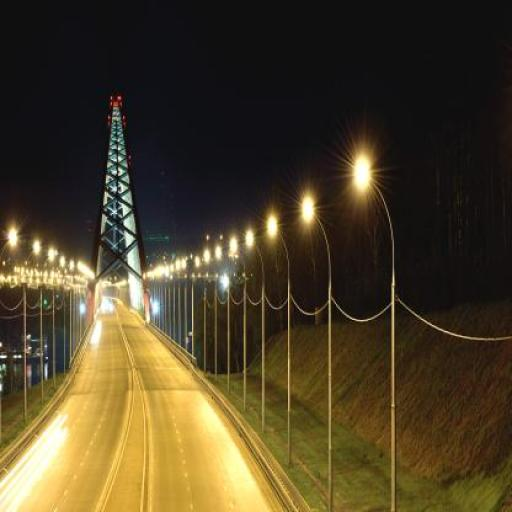street light: (357, 161, 397, 512), (302, 199, 334, 512), (268, 219, 292, 468), (248, 230, 266, 433), (0, 231, 17, 439), (23, 242, 39, 418), (231, 238, 247, 412), (40, 249, 56, 398), (217, 246, 230, 397), (203, 250, 216, 378), (54, 257, 65, 389), (182, 258, 196, 356), (196, 257, 206, 374), (176, 261, 182, 345), (70, 261, 74, 364)
